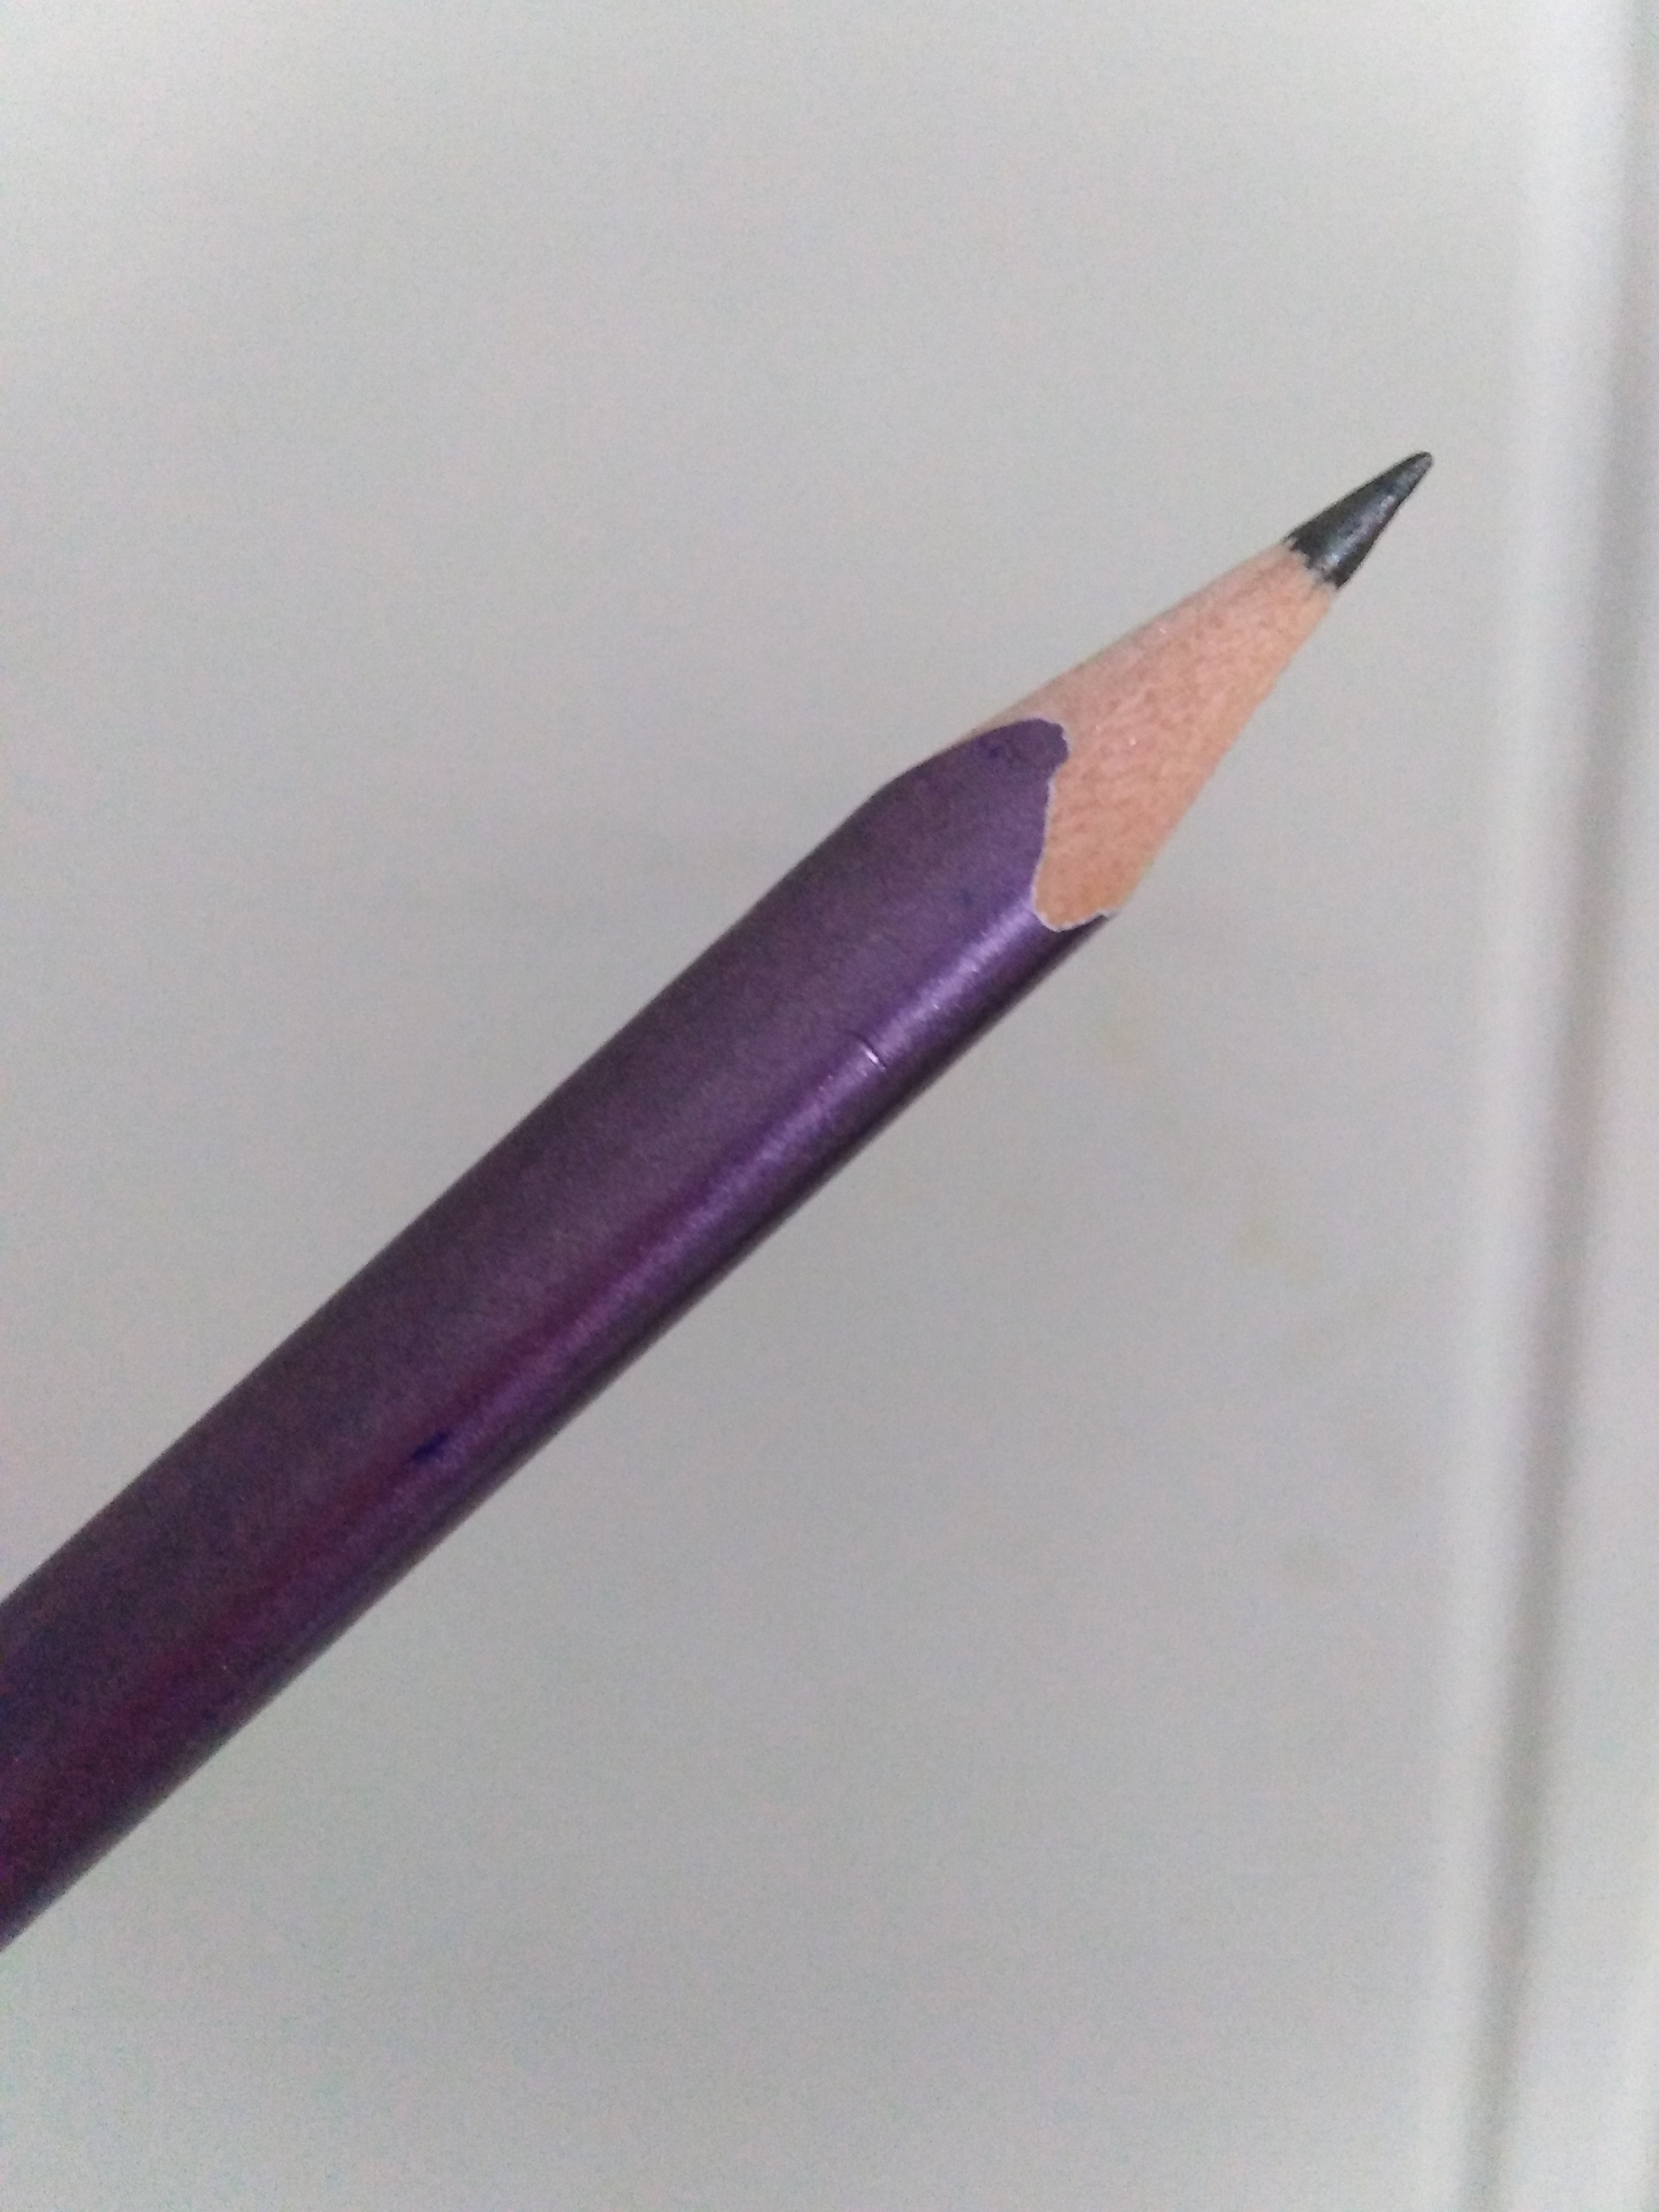pen_tip: (725, 275, 1565, 1116)
